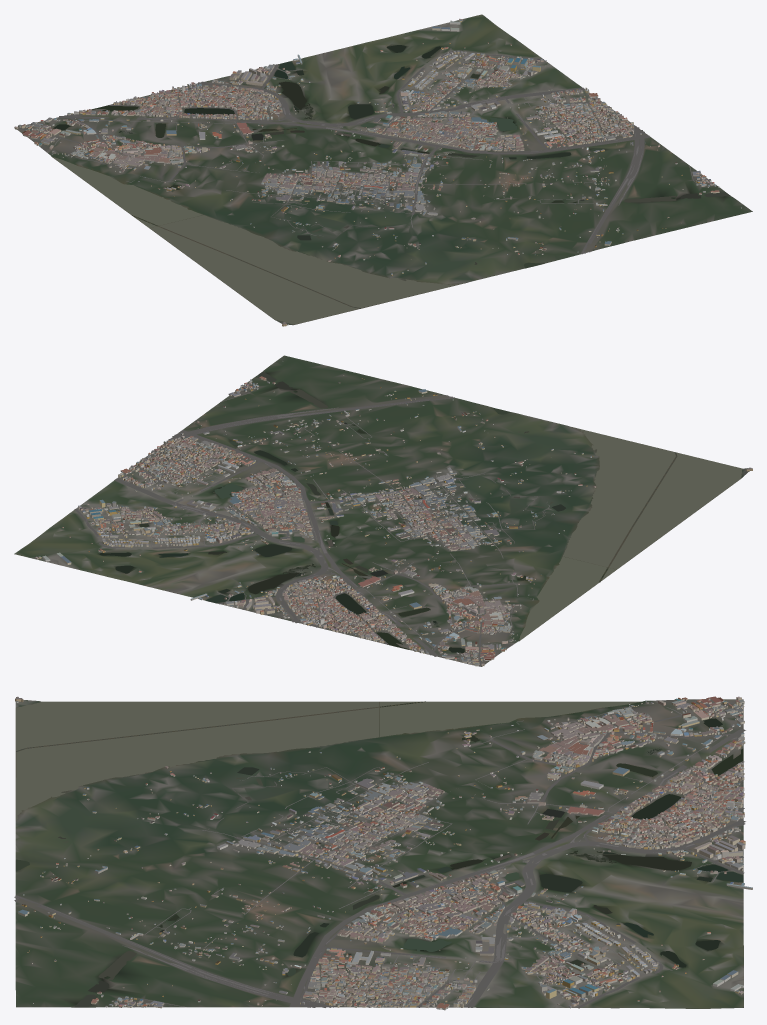
3 views of the same model, one above another, from view 1: azimuth 30°, elevation 25°; view 2: azimuth 150°, elevation 25°; view 3: azimuth 270°, elevation 25° (orthographic). The views are drawn at different scales.
Visible parts, largest first — view 1: ground, buildings, water, roads; view 2: ground, buildings, water, roads; view 3: ground, buildings, water, roads.
Part boxes in pixels (left/top/right/bottom): ground: left=14, top=14, right=752, bottom=325; buildings: left=14, top=18, right=741, bottom=326; water: left=52, top=45, right=730, bottom=324; roads: left=18, top=48, right=708, bottom=254; ground: left=14, top=355, right=750, bottom=666; buildings: left=35, top=360, right=752, bottom=666; water: left=99, top=371, right=742, bottom=652; roads: left=74, top=386, right=549, bottom=666; ground: left=15, top=699, right=743, bottom=1008; buildings: left=15, top=696, right=752, bottom=1010; water: left=16, top=701, right=743, bottom=1007; roads: left=14, top=699, right=745, bottom=1008.
Bounding box in the file's own units: 2836 × 36.83 × 2846.
